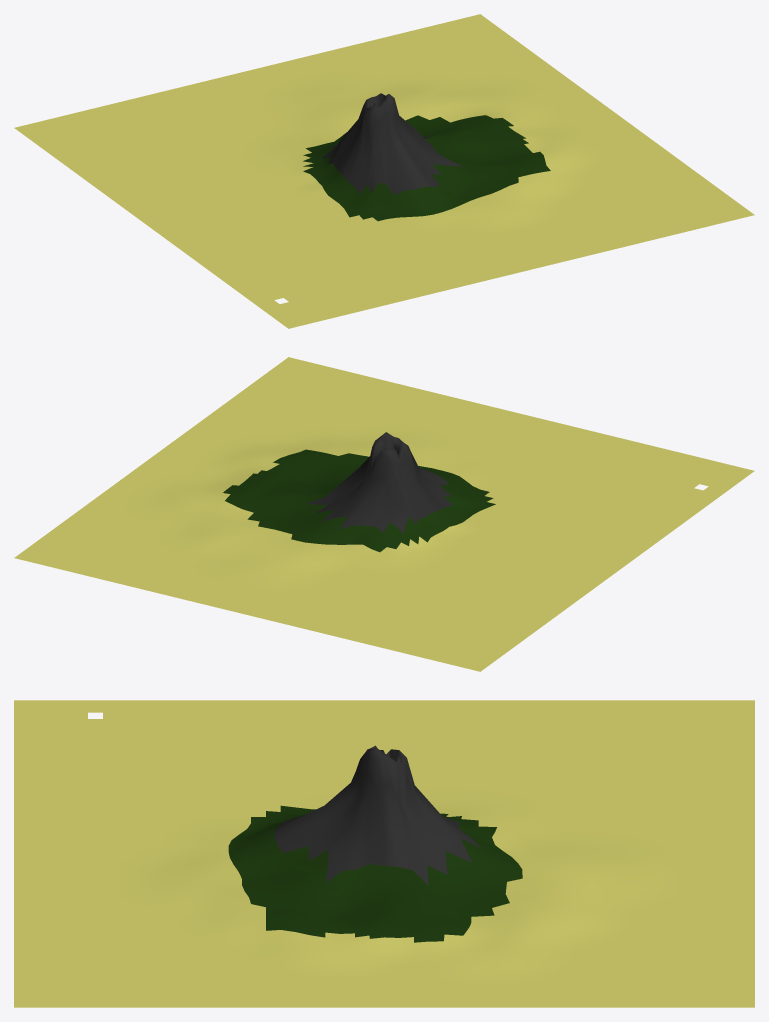
The model's file is Island.FBX.
3 renders of one model, top to bottom at view 1: azimuth 30°, elevation 25°; view 2: azimuth 150°, elevation 25°; view 3: azimuth 270°, elevation 25°, orthographic. The views are drawn at different scales.
Visible parts, largest first — view 1: Object001, Plane001, Object002; view 2: Object001, Plane001, Object002; view 3: Object001, Plane001, Object002.
Part boxes in pixels (x1,y1,x2,y2): Object001: (14,14,754,328); Plane001: (303,115,550,221); Object002: (321,93,463,194); Object001: (14,357,754,671); Plane001: (223,449,495,552); Object002: (306,432,452,533); Object001: (14,700,754,1007); Plane001: (228,805,522,942); Object002: (274,745,480,885).
Bounding box in the file's own units: 136 × 22.26 × 139.
